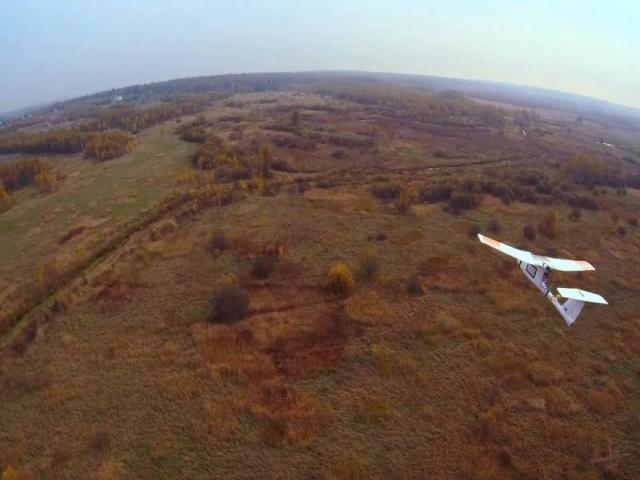hedef: (478, 226, 616, 347)
